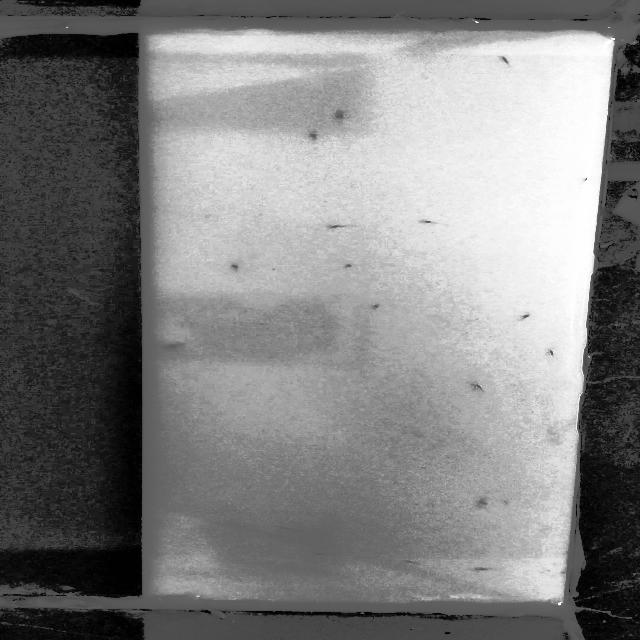shrimp: (328, 108, 359, 127), (494, 51, 522, 69), (328, 222, 363, 232), (476, 497, 504, 508), (419, 218, 446, 229), (306, 129, 327, 142), (473, 379, 491, 394), (398, 556, 422, 567), (576, 171, 593, 186), (474, 566, 498, 576), (229, 263, 250, 273), (276, 525, 300, 533), (545, 347, 560, 358), (339, 261, 355, 271), (167, 343, 184, 352), (311, 550, 331, 557), (372, 303, 387, 311), (520, 314, 532, 321)
